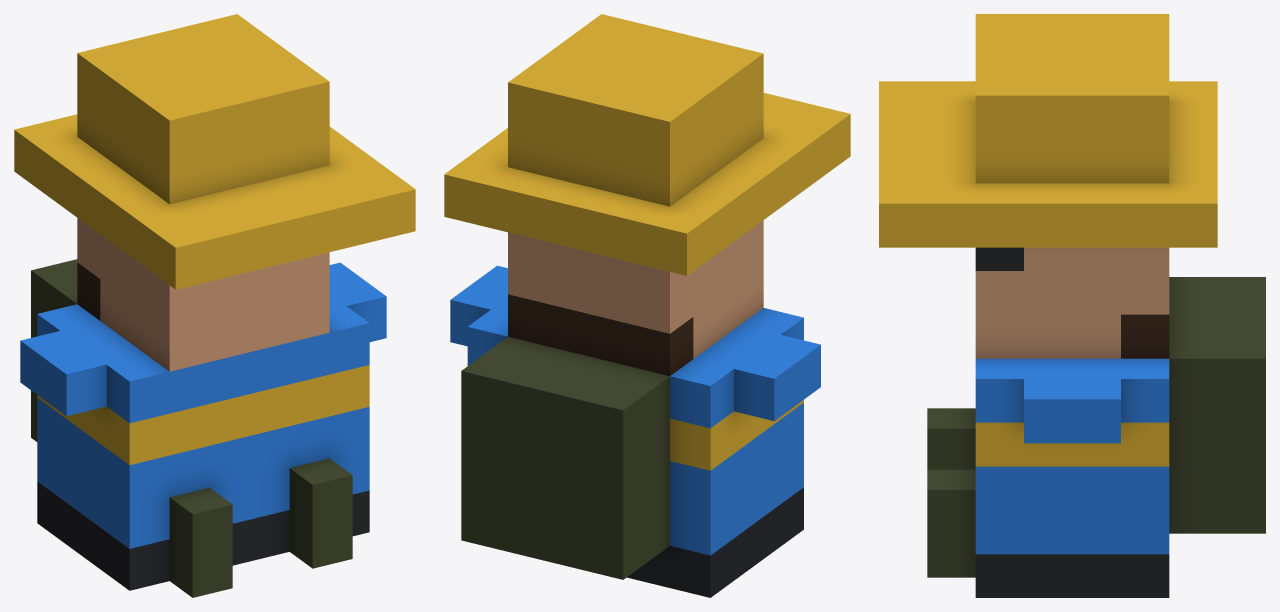
File: cm_engineer_t_1.glb
3 renders of one model, left to right at view 1: azimuth 30°, elevation 25°; view 2: azimuth 150°, elevation 25°; view 3: azimuth 270°, elevation 25°, orthographic. The views are drawn at different scales.
Parts seen in each view (by area): view 1: cm_engineer_t_1_body; view 2: cm_engineer_t_1_body; view 3: cm_engineer_t_1_body.
Part boxes in pixels (x1,y1,x2,y2): cm_engineer_t_1_body: (14, 14, 415, 597); cm_engineer_t_1_body: (444, 14, 850, 597); cm_engineer_t_1_body: (879, 14, 1265, 597).
Size of the model in its own units: 0.5 by 0.6875 by 0.5.
Materials: 1 (1 with a texture image).
